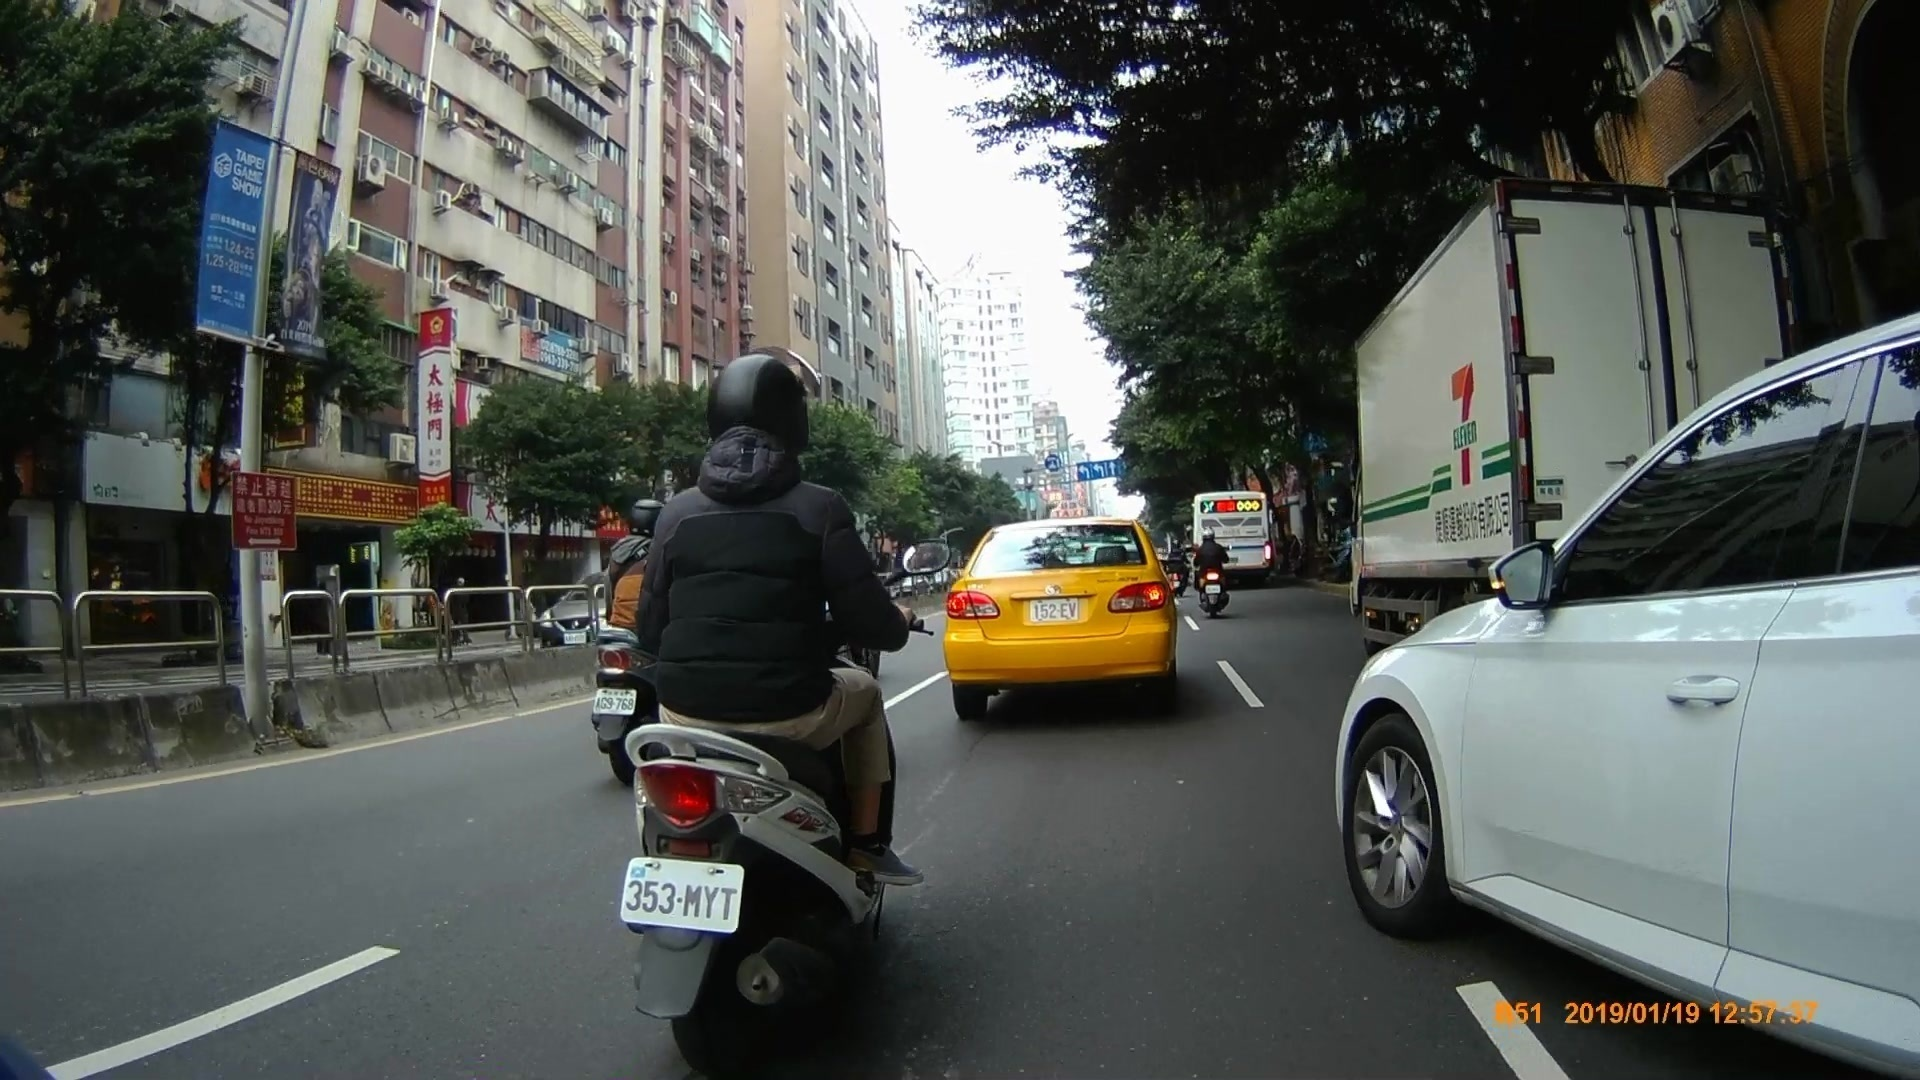License_plate: (618, 854, 744, 935), (1023, 598, 1084, 627)
